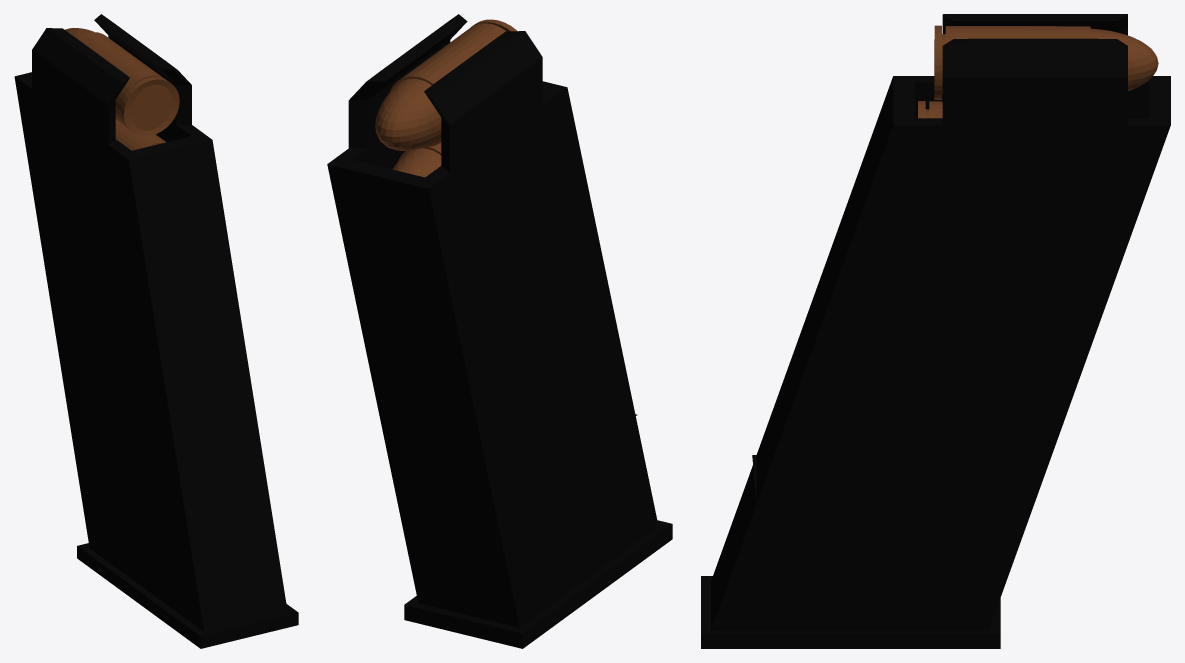
Rendered from 9mmMag.glb.
3 views of the same model, side by side, from view 1: azimuth 30°, elevation 25°; view 2: azimuth 150°, elevation 25°; view 3: azimuth 270°, elevation 25° (orthographic). The views are drawn at different scales.
Parts seen in each view (by area): view 1: Cube, Cylinder.004, Cylinder.002; view 2: Cube, Cylinder.004, Cylinder.002; view 3: Cube, Cylinder.004.
Part boxes in pixels (box(x1,y1,x2,y2)): Cube: box(14, 14, 298, 648); Cylinder.004: box(65, 28, 179, 136); Cylinder.002: box(115, 120, 165, 150); Cube: box(327, 14, 672, 648); Cylinder.004: box(375, 19, 517, 150); Cylinder.002: box(392, 142, 441, 177); Cube: box(701, 14, 1170, 648); Cylinder.004: box(934, 25, 1158, 99).
Size of the model in its own units: 0.4905 by 2.34 by 1.69.
Materials: 6 (5 with a texture image).
